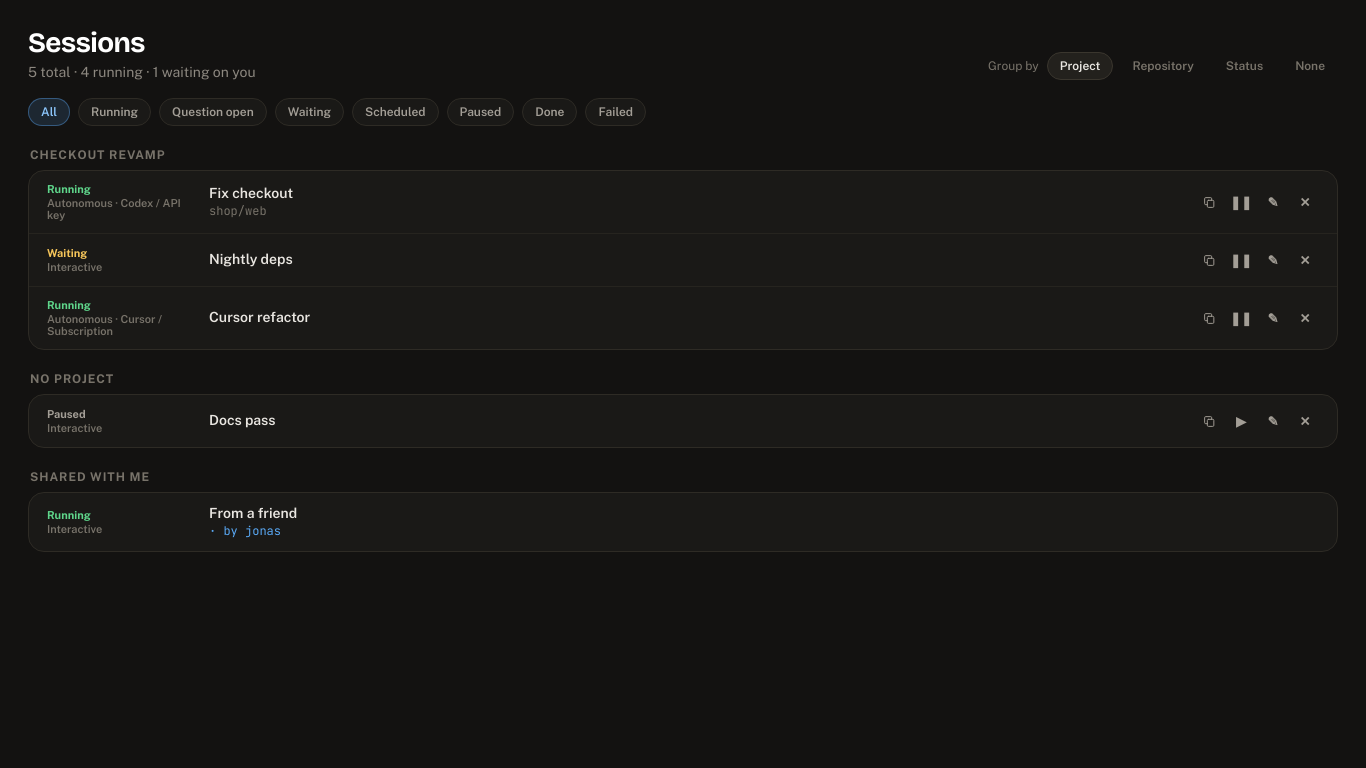
Scenario: SessionsView › filters by display status including Waiting
Click the button with class "filter" showing "Waiting": {"x": 309, "y": 112} x1=275 y1=98 x2=344 y2=126
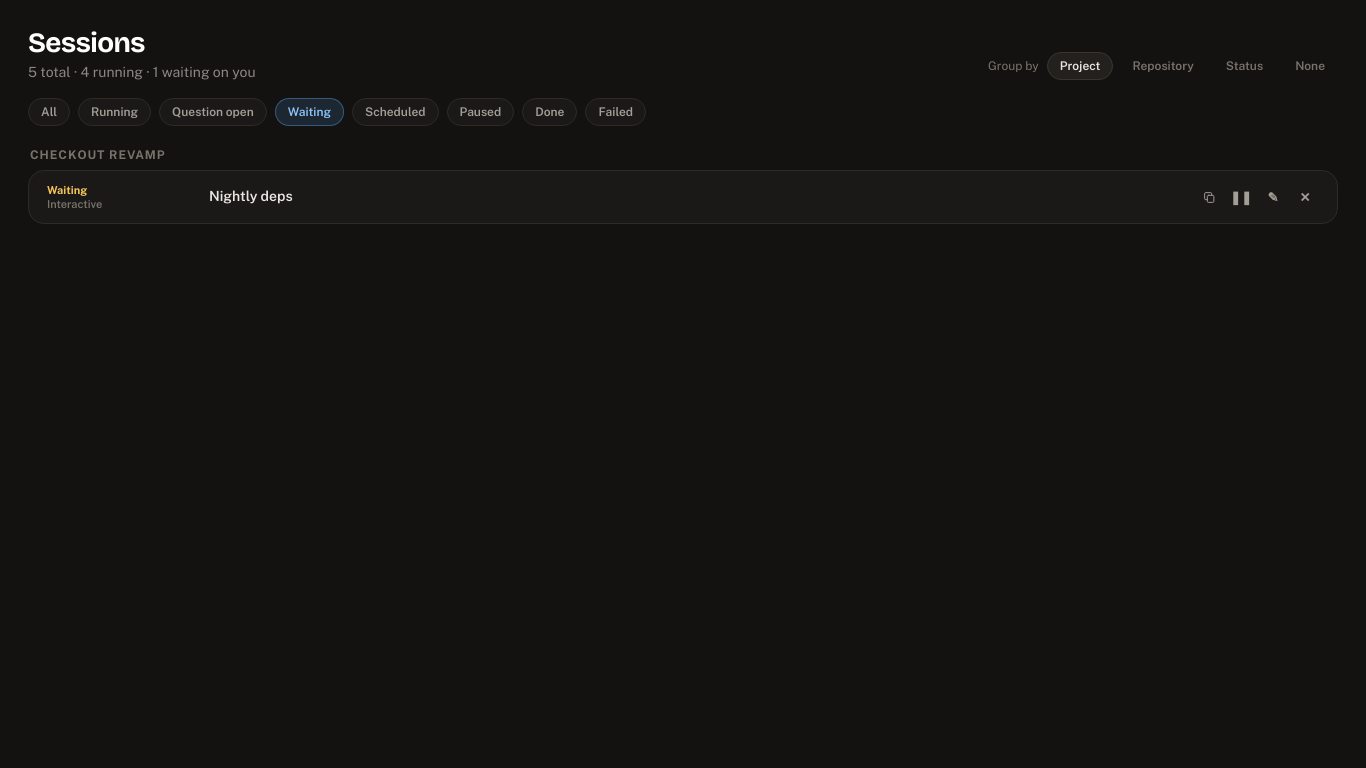
Expected: the elements with class "row-title" read "Nightly deps", in this order, x1=209 y1=188 x2=293 y2=204
